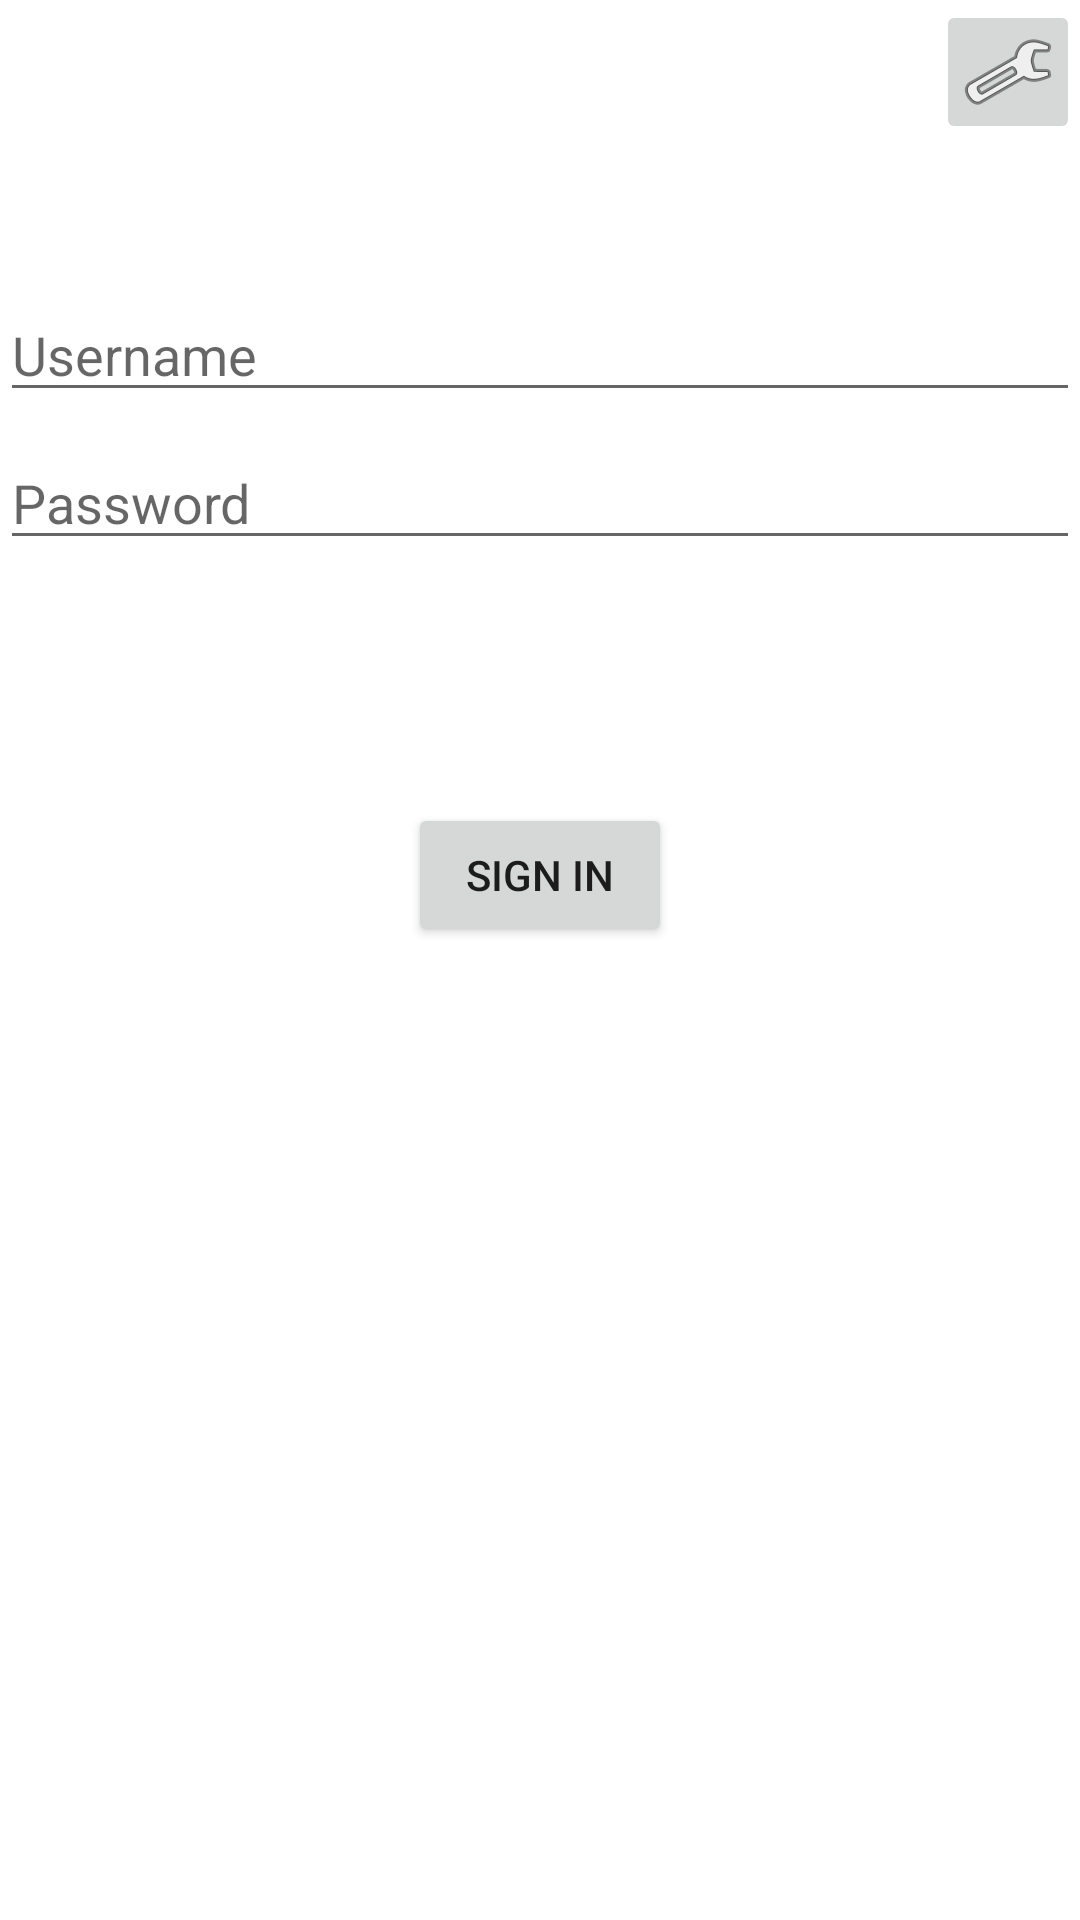

Locate icon controls on the screen. Image size 1080 x 1920, boxes as (x1, y1, x2, y2).
settings: (948, 18, 1068, 126)
